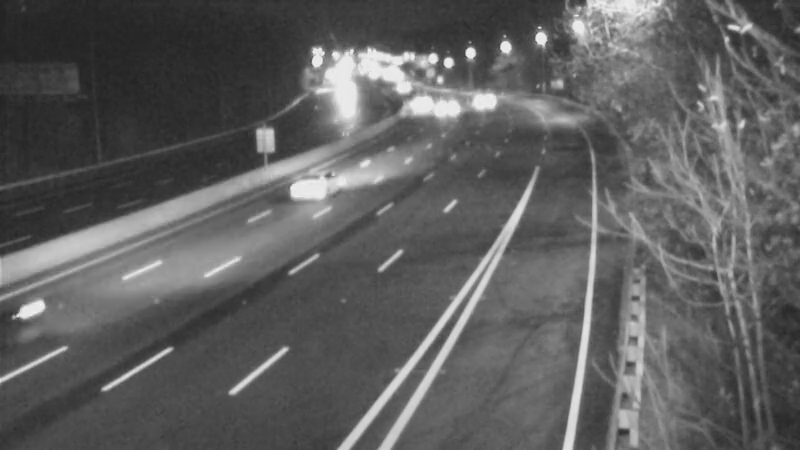vehicle: (1, 272, 94, 382), (283, 146, 363, 226), (462, 75, 512, 125), (394, 75, 444, 125), (421, 85, 471, 135), (324, 78, 374, 128)
